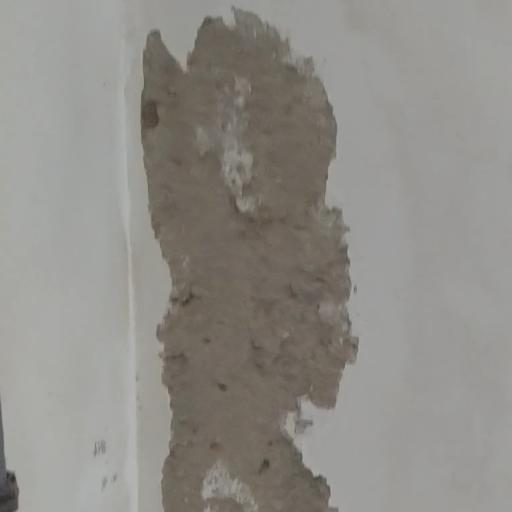spalling: (136, 0, 359, 512)
